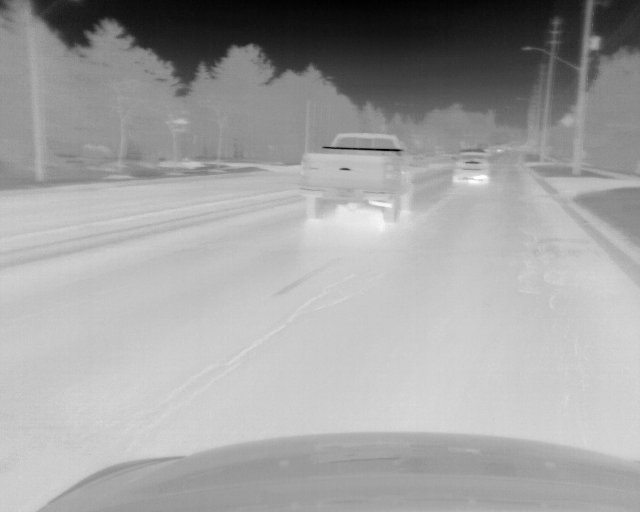car: (300, 131, 413, 224), (450, 148, 492, 186)
